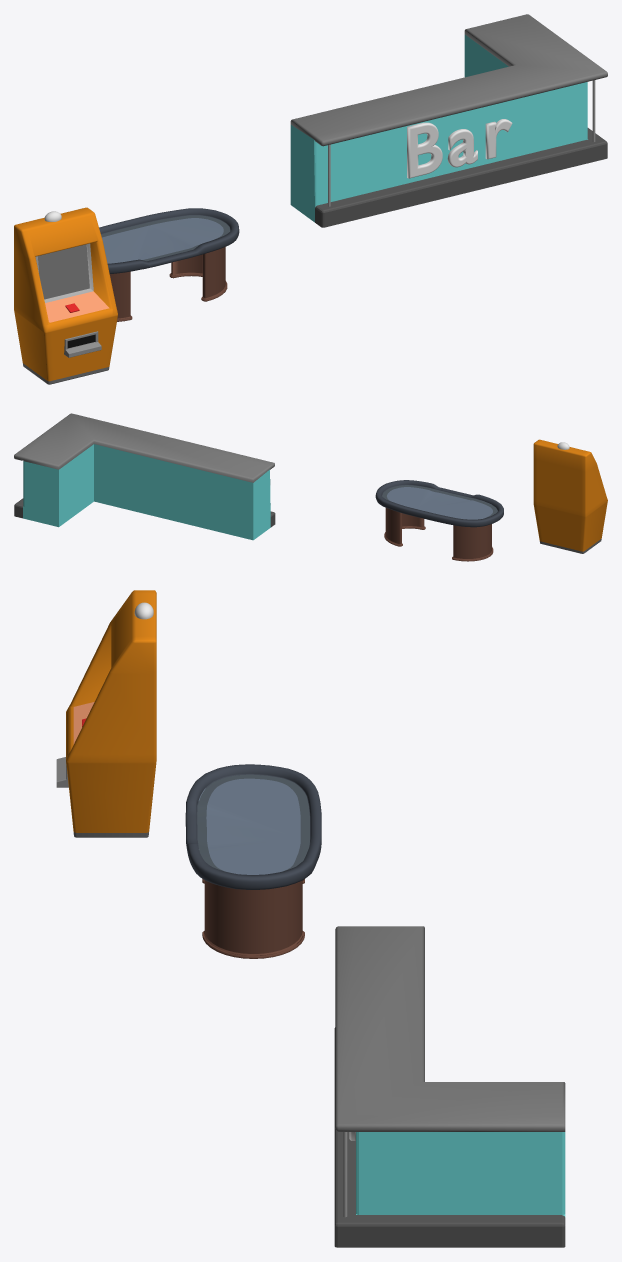
Rendered from poker.fbx.
3 renders of one model, top to bottom at view 1: azimuth 30°, elevation 25°; view 2: azimuth 150°, elevation 25°; view 3: azimuth 270°, elevation 25°, orthographic. The views are drawn at different scales.
Visible parts, largest first — view 1: Cube.003, Cube, Cube.004, Cylinder.002, Text, Cylinder, Cylinder.001, Cube.001; view 2: Cube.003, Cube.004, Cube, Cylinder.002, Cylinder.001, Cylinder; view 3: Cube.003, Cube.004, Cube, Cylinder.002, Cylinder.
Boxes of the visible parts, x1=… form: Cube.003: x1=290, y1=34, x2=607, y2=227; Cube: x1=14, y1=207, x2=117, y2=384; Cube.004: x1=290, y1=14, x2=607, y2=146; Cylinder.002: x1=99, y1=208, x2=239, y2=273; Text: x1=407, y1=119, x2=512, y2=178; Cylinder: x1=169, y1=247, x2=227, y2=301; Cylinder.001: x1=109, y1=271, x2=132, y2=321; Cube.001: x1=64, y1=331, x2=101, y2=357; Cube.003: x1=14, y1=444, x2=275, y2=540; Cube.004: x1=14, y1=413, x2=274, y2=482; Cube: x1=533, y1=439, x2=607, y2=553; Cylinder.002: x1=375, y1=480, x2=503, y2=527; Cylinder.001: x1=452, y1=524, x2=493, y2=561; Cylinder: x1=384, y1=508, x2=425, y2=546; Cube.003: x1=334, y1=1027, x2=565, y2=1247; Cube.004: x1=335, y1=926, x2=565, y2=1131; Cube: x1=66, y1=590, x2=156, y2=837; Cylinder.002: x1=185, y1=764, x2=321, y2=889; Cylinder: x1=202, y1=880, x2=304, y2=958.
Bounding box in the file's own units: 792 × 170 × 371.
